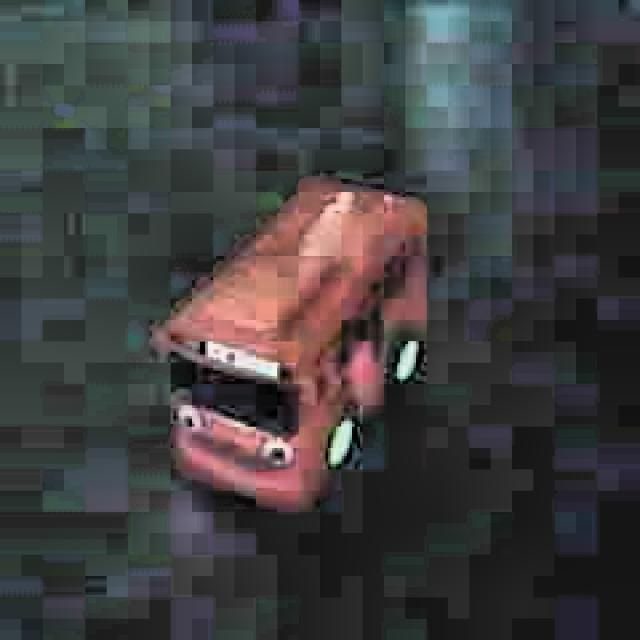bus: (140, 161, 441, 519)
